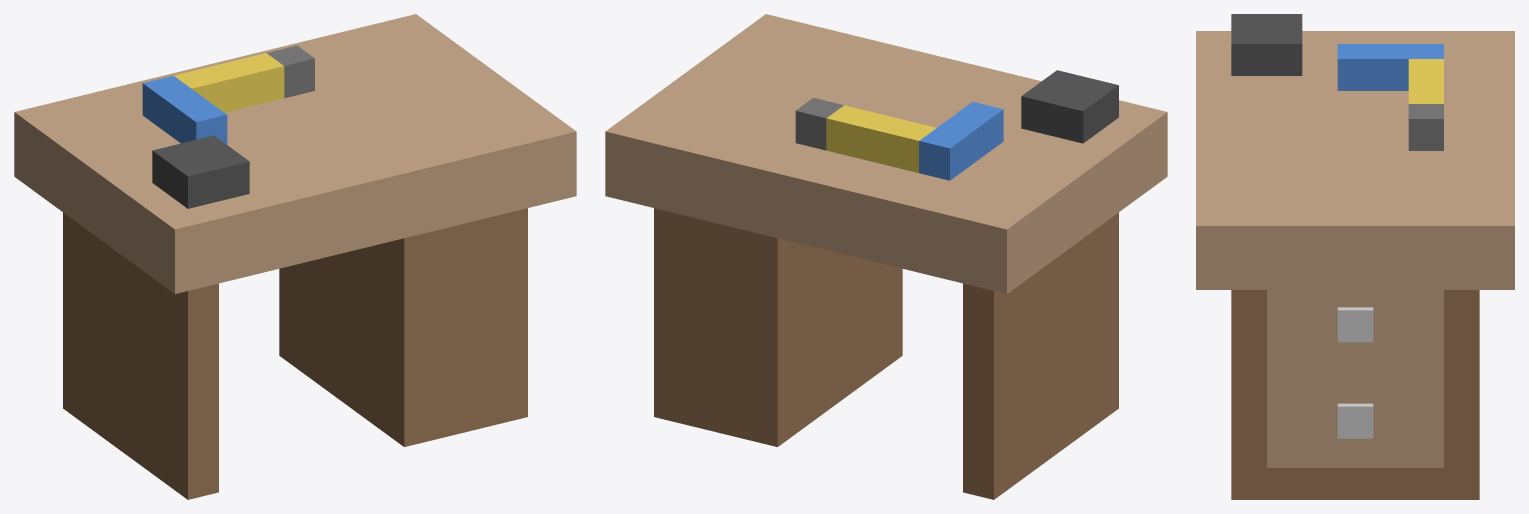
The model's file is table.fbx.
The picture shows the model from 3 angles, left to right: view 1: azimuth 30°, elevation 25°; view 2: azimuth 150°, elevation 25°; view 3: azimuth 270°, elevation 25°; orthographic projection.
Parts seen in each view (by area): view 1: Executive_Student_Desk; view 2: Executive_Student_Desk; view 3: Executive_Student_Desk.
Boxes of the visible parts, x1,y1,x2,y2 form: Executive_Student_Desk: [14, 14, 576, 499]; Executive_Student_Desk: [605, 14, 1167, 499]; Executive_Student_Desk: [1196, 14, 1514, 499].
Bounding box in the file's own units: 195 × 150 × 135.
